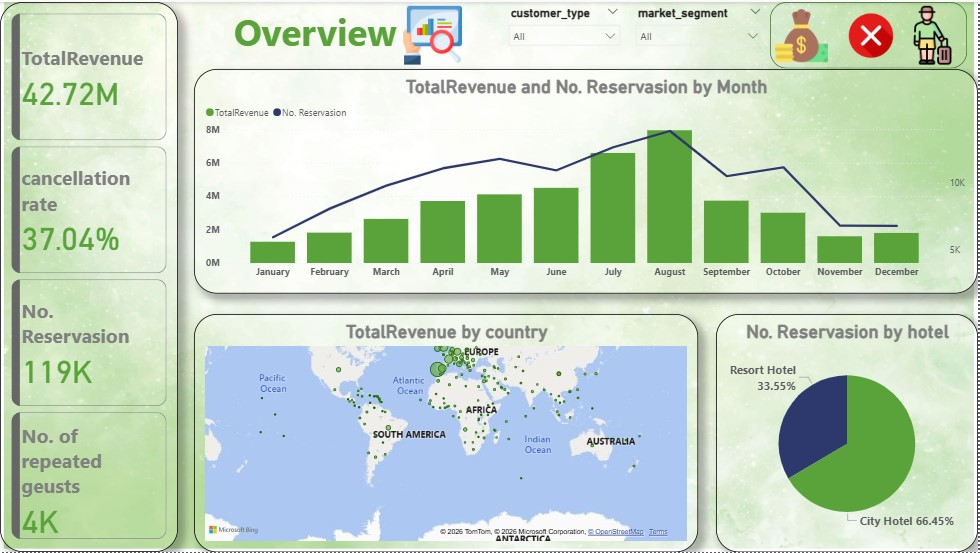

The dashboard page shown, as its layout file describes it:
{"tool":"powerbi","page":{"name":"OverView","canvas":[1280,720],"ordinal":0},"visuals":[{"type":"image","box":[0,-52.8,1280,772.9],"z":0},{"type":"shape","box":[1008.3,0,258.1,87.2],"z":1000},{"type":"lineClusteredColumnComboChart","fields":{"Category":["DimDate.Date.Variation.Date Hierarchy.Year","DimDate.Date.Variation.Date Hierarchy.Quarter","DimDate.Date.Variation.Date Hierarchy.Month","DimDate.Date.Variation.Date Hierarchy.Day"],"Y":["MyMeasures.TotalRevenue"],"Y2":["MyMeasures.No. Reservasion"]},"box":[253.6,87.3,1026.4,294],"z":2000},{"type":"pieChart","fields":{"Y":["MyMeasures.No. Reservasion"],"Category":["DimHotel.hotel"]},"box":[937.3,408.2,342.7,312.4],"z":5000},{"type":"cardVisual","fields":{"Data":["MyMeasures.TotalRevenue","MyMeasures.cancellation rate","MyMeasures.No. Reservasion","MyMeasures.No. of repeated geusts"]},"box":[0,0,233.3,720],"z":6000},{"type":"map","fields":{"Category":["DimCountry.country"],"Size":["MyMeasures.TotalRevenue"]},"box":[253.6,408.2,660.2,312.4],"z":7000},{"type":"image","box":[1008.3,0,82,87.2],"z":8000},{"type":"image","box":[1105.7,0,68.4,87.2],"z":9000},{"type":"image","box":[1174,0,92.3,87.2],"z":10000},{"type":"textbox","box":[300.8,0,299.1,87.2],"z":11000},{"type":"image","box":[516.1,0,100.8,87.2],"z":12000},{"type":"slicer","fields":{"Values":["FactReservation.market_segment"]},"box":[822,0,186.5,61.2],"z":13000},{"type":"slicer","fields":{"Values":["FactReservation.customer_type"]},"box":[656.2,0,165.8,61.5],"z":14000}]}

Visuals, with their boxes in screenshot pixels (x1, y1, x2, y2), scaled from the page's 1280x720 canvas onto the 980x553 screenshot:
image: 0:0:979:552
shape: 772:0:970:67
lineClusteredColumnComboChart - DimDate.Date.Variation.Date Hierarchy.Year x DimDate.Date.Variation.Date Hierarchy.Quarter: 194:67:979:293
pieChart - MyMeasures.No. Reservasion x DimHotel.hotel: 718:314:979:552
cardVisual - MyMeasures.TotalRevenue x MyMeasures.cancellation rate: 0:0:179:552
map - DimCountry.country x MyMeasures.TotalRevenue: 194:314:700:552
image: 772:0:835:67
image: 847:0:899:67
image: 899:0:970:67
textbox: 230:0:459:67
image: 395:0:472:67
slicer - FactReservation.market_segment: 629:0:772:47
slicer - FactReservation.customer_type: 502:0:629:47
